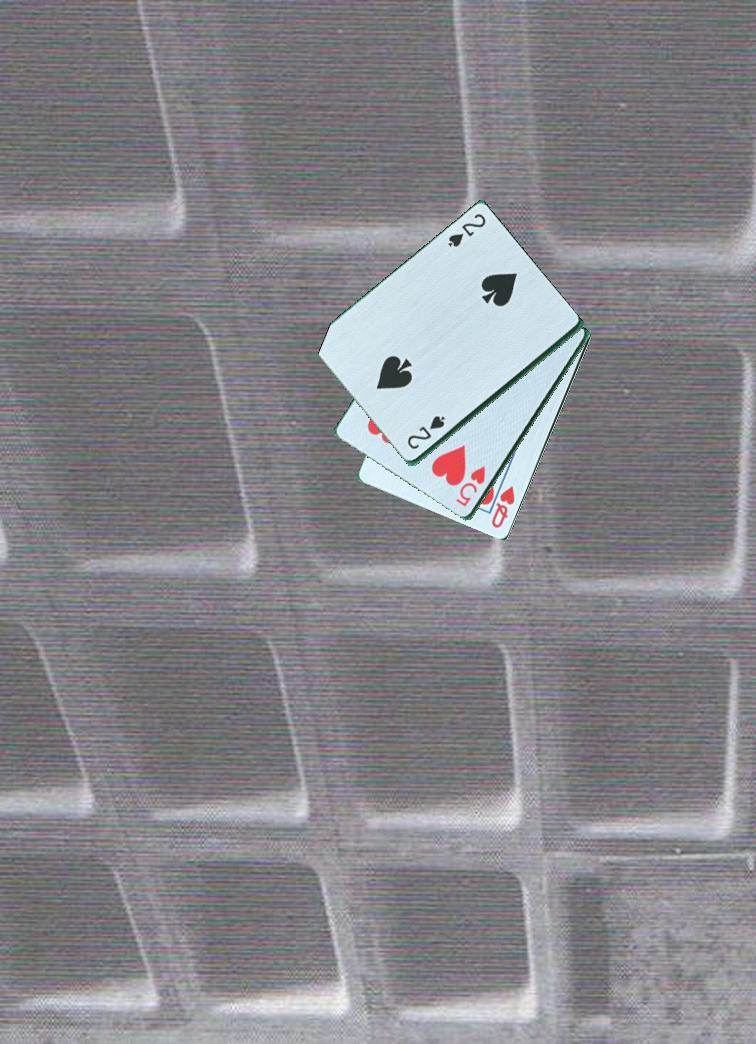2s: (444, 210, 489, 257), (398, 413, 448, 453)
5h: (452, 463, 489, 510)
qh: (488, 482, 518, 531)
